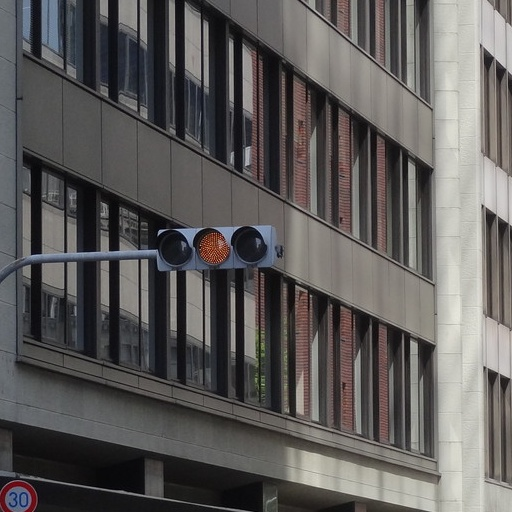Traffic_Signal_Yellow: (153, 224, 280, 270)
